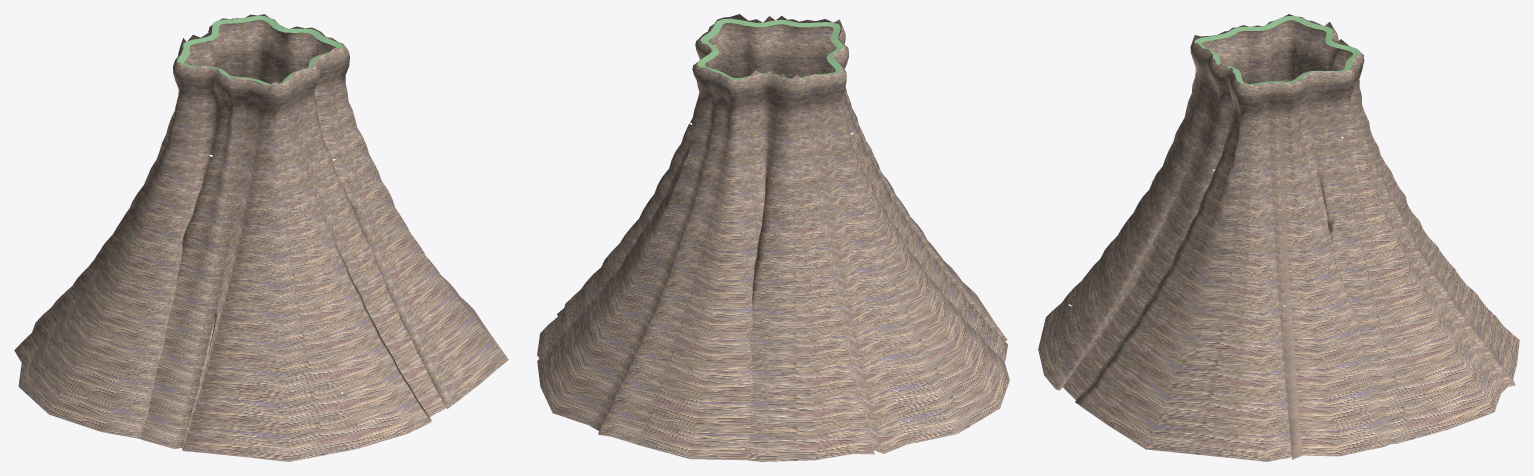
File: CliffWall_stack_06.glb
3 renders of one model, left to right at view 1: azimuth 30°, elevation 25°; view 2: azimuth 150°, elevation 25°; view 3: azimuth 270°, elevation 25°, orthographic.
Visible parts, largest first — view 1: CliffWall_stack_06-rock0, CliffWall_stack_06-lip0; view 2: CliffWall_stack_06-rock0, CliffWall_stack_06-lip0; view 3: CliffWall_stack_06-rock0, CliffWall_stack_06-lip0.
Part boxes in pixels (box(x1,y1,x2,y2)): CliffWall_stack_06-rock0: box(14, 14, 508, 461); CliffWall_stack_06-lip0: box(177, 15, 343, 84); CliffWall_stack_06-rock0: box(537, 14, 1009, 461); CliffWall_stack_06-lip0: box(697, 18, 843, 80); CliffWall_stack_06-rock0: box(1038, 14, 1519, 461); CliffWall_stack_06-lip0: box(1194, 16, 1360, 85).
Size of the model in its own units: 581 by 406 by 565.
Materials: 4 (1 with a texture image).
